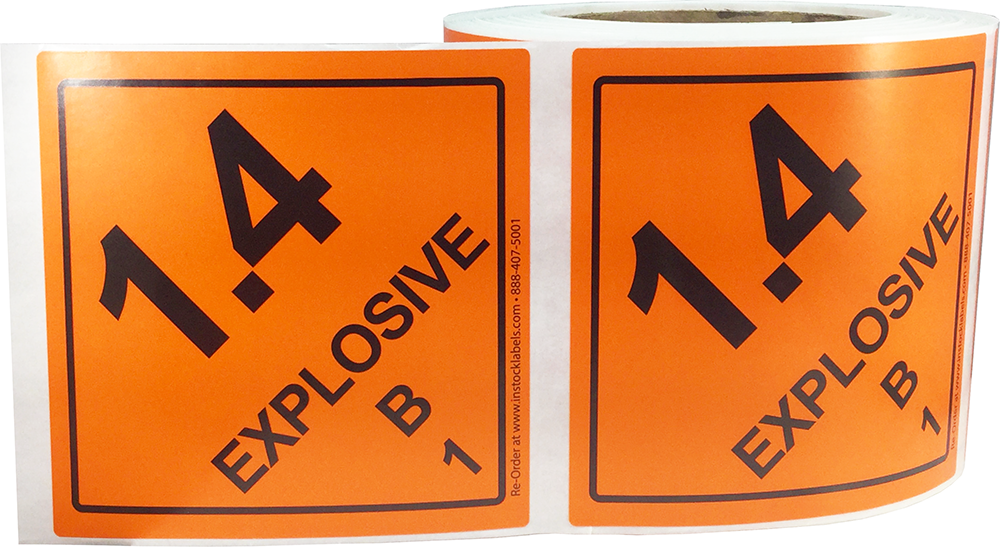Explosive: (48, 59, 525, 526)
